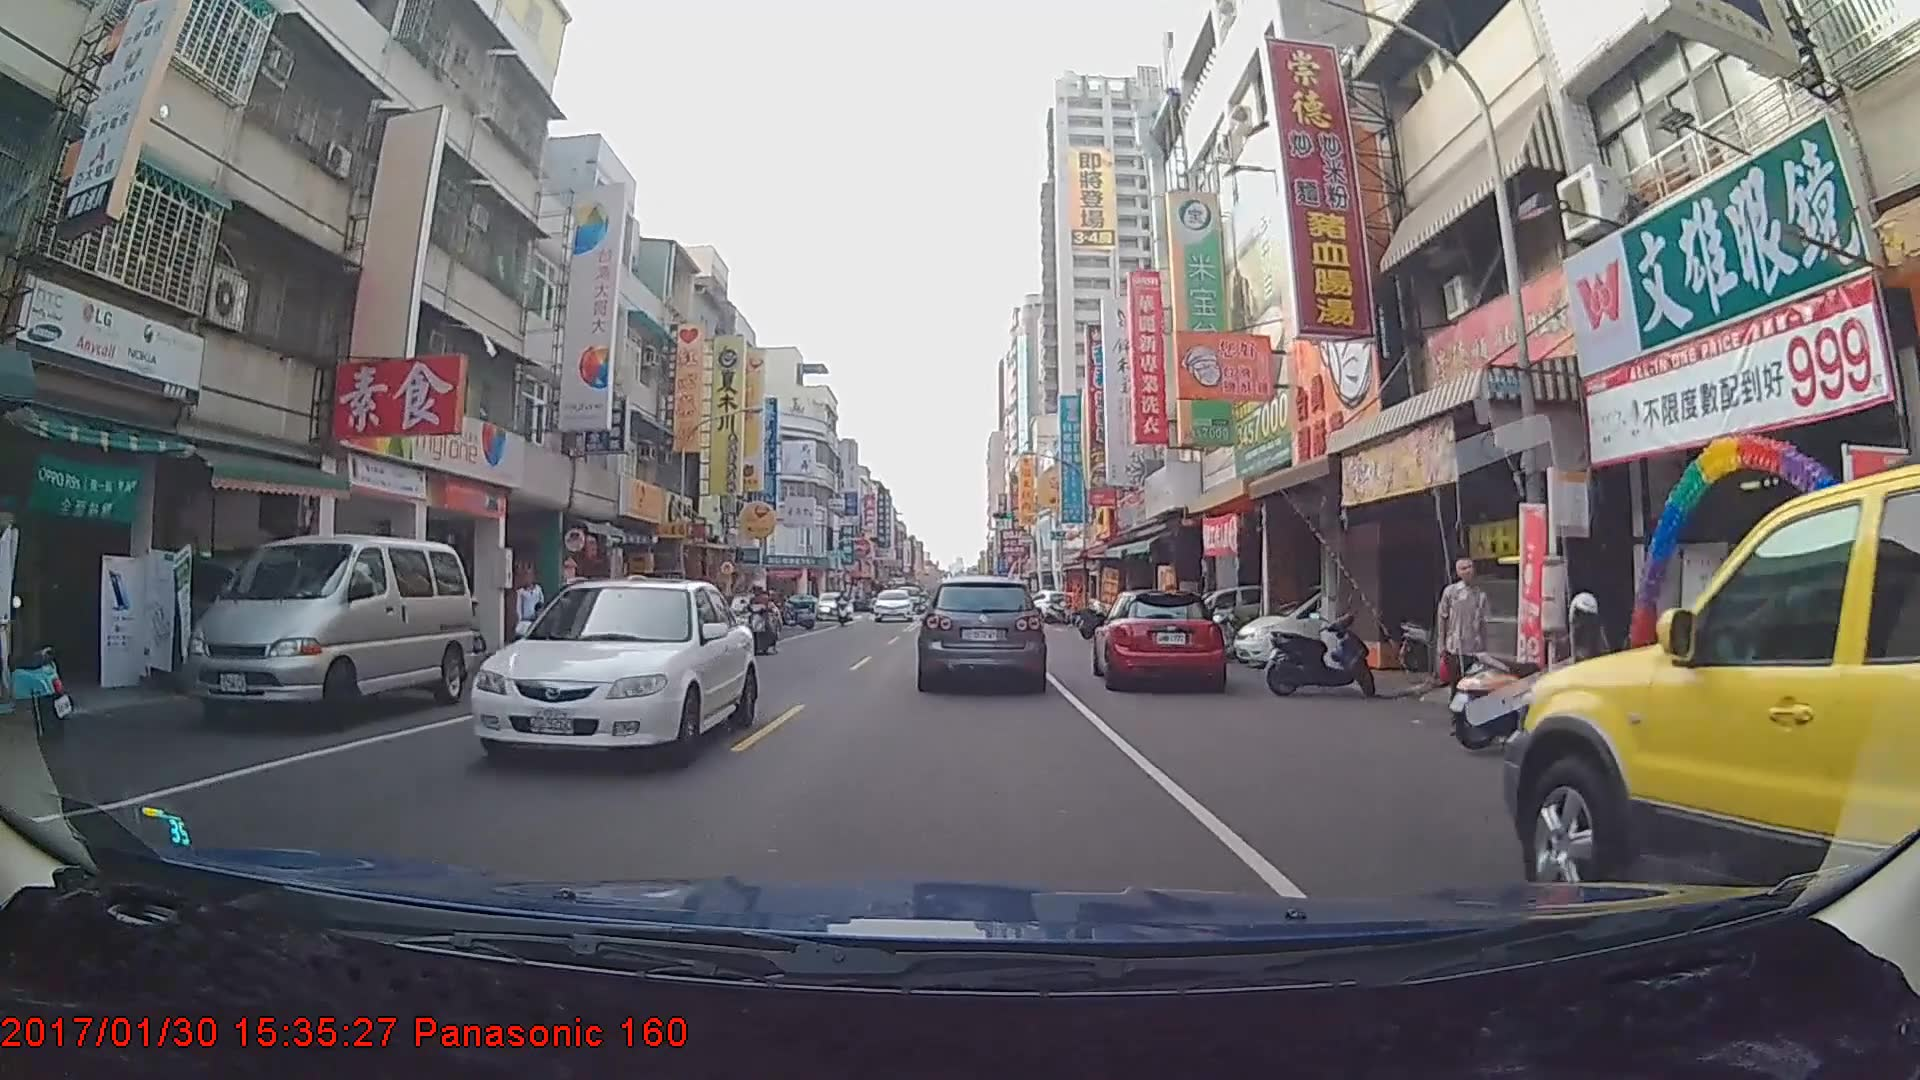pedestrian: (1438, 555, 1495, 733), (513, 567, 548, 648)
vehicle: (1508, 442, 1920, 982), (463, 568, 758, 769), (179, 530, 475, 729), (919, 572, 1045, 689), (1096, 588, 1227, 690), (694, 590, 781, 644), (870, 584, 912, 617), (813, 589, 853, 620)
